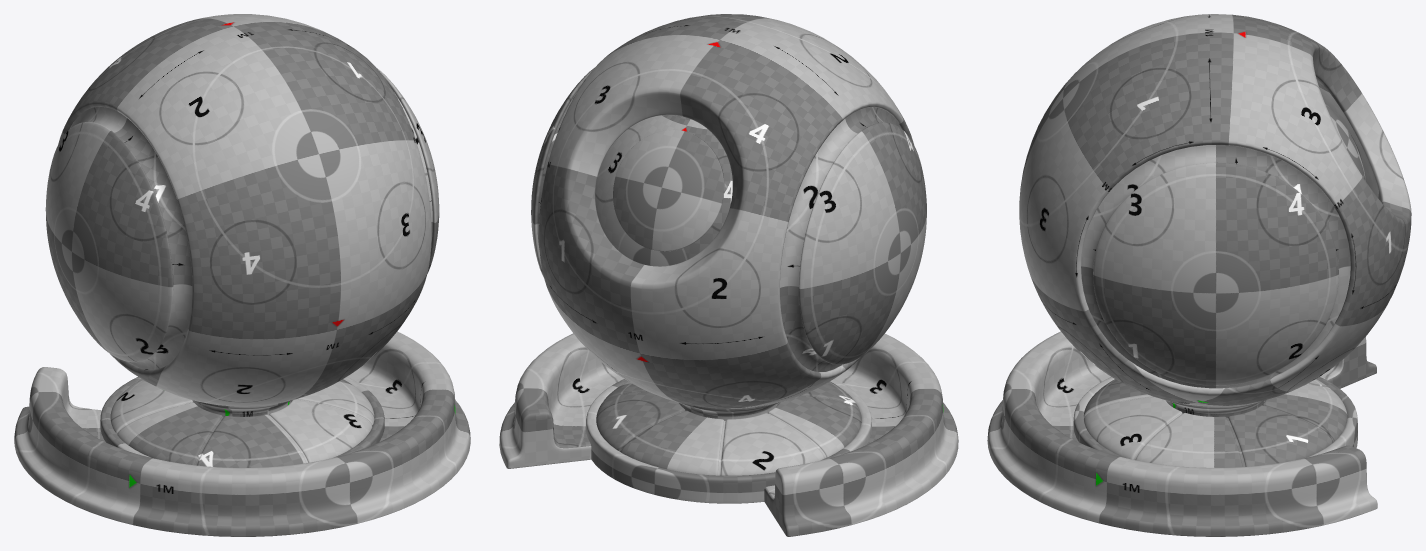
The model's file is Shaderball.fbx.
3 views of the same model, side by side, from view 1: azimuth 30°, elevation 25°; view 2: azimuth 150°, elevation 25°; view 3: azimuth 270°, elevation 25° (orthographic).
Parts seen in each view (by area): view 1: MainOuterSphere, OuterBaseCuff, RightHub, InnerCushion, RingRight, InnerBaseCuff, LeftHub, InnerPost; view 2: MainOuterSphere, OuterBaseCuff, RightHub, InnerCushion, HubCap, InnerBaseCuff, RingRight, InnerSphere, LeftHub, InnerPost; view 3: MainOuterSphere, LeftHub, OuterBaseCuff, InnerCushion, RingLeft, InnerBaseCuff, Inside, InnerPost, HubCap.
Boxes of the visible parts, x1,y1,x2,y2 form: MainOuterSphere: (58, 14, 431, 406); OuterBaseCuff: (14, 331, 470, 536); RightHub: (45, 122, 173, 362); InnerCushion: (110, 379, 374, 467); RingRight: (71, 107, 192, 369); InnerBaseCuff: (100, 377, 384, 457); LeftHub: (376, 67, 439, 273); InnerPost: (192, 400, 292, 416); MainOuterSphere: (539, 14, 913, 408); OuterBaseCuff: (499, 333, 958, 536); RightHub: (799, 122, 926, 364); InnerCushion: (596, 381, 861, 475); HubCap: (613, 130, 724, 251); InnerBaseCuff: (586, 379, 871, 503); RingRight: (780, 107, 901, 371); InnerSphere: (595, 115, 732, 266); LeftHub: (531, 68, 593, 276); InnerPost: (678, 402, 778, 420); MainOuterSphere: (1019, 14, 1411, 406); LeftHub: (1093, 162, 1338, 385); OuterBaseCuff: (987, 331, 1377, 536); InnerCushion: (1083, 379, 1347, 467); RingLeft: (1081, 145, 1350, 388); InnerBaseCuff: (1073, 377, 1357, 457); Inside: (1316, 79, 1380, 201); InnerPost: (1165, 400, 1265, 417); HubCap: (1325, 103, 1365, 180).
Bounding box in the file's own units: 135 × 133 × 125.
1 material, 1 textured.
